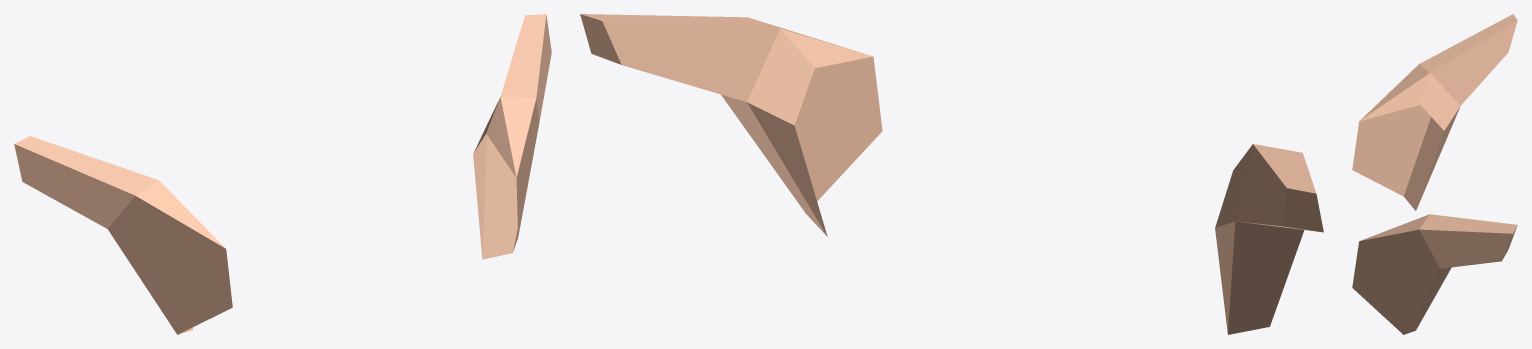
The model's file is Chr_Ear_Ear_03_Static.fbx.
The picture shows the model from 3 angles, left to right: view 1: azimuth 30°, elevation 25°; view 2: azimuth 150°, elevation 25°; view 3: azimuth 270°, elevation 25°; orthographic projection. The views are drawn at different scales.
Visible parts, largest first — view 1: Chr_Ear_Ear_03_Static; view 2: Chr_Ear_Ear_03_Static; view 3: Chr_Ear_Ear_03_Static.
Part boxes in pixels (x1,y1,x2,y2): Chr_Ear_Ear_03_Static: (14, 14, 551, 334); Chr_Ear_Ear_03_Static: (580, 14, 1323, 334); Chr_Ear_Ear_03_Static: (1352, 14, 1517, 334).
Size of the model in its own units: 0.4002 by 0.1259 by 0.1274.
